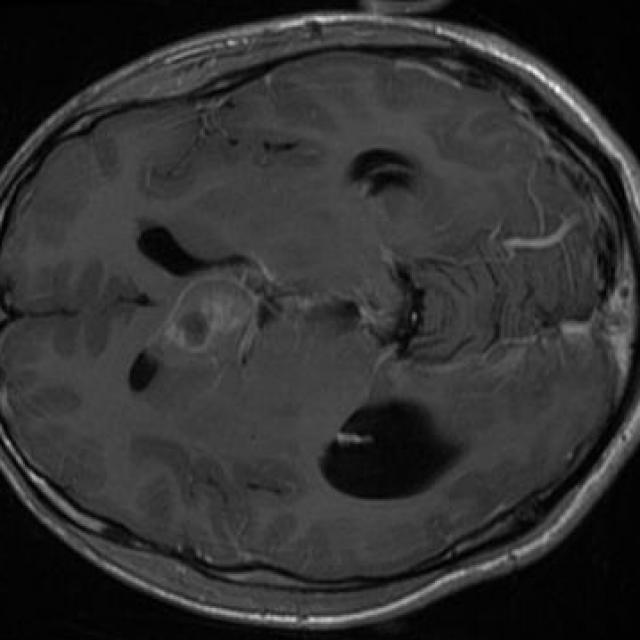glioma: (148, 275, 260, 365)
